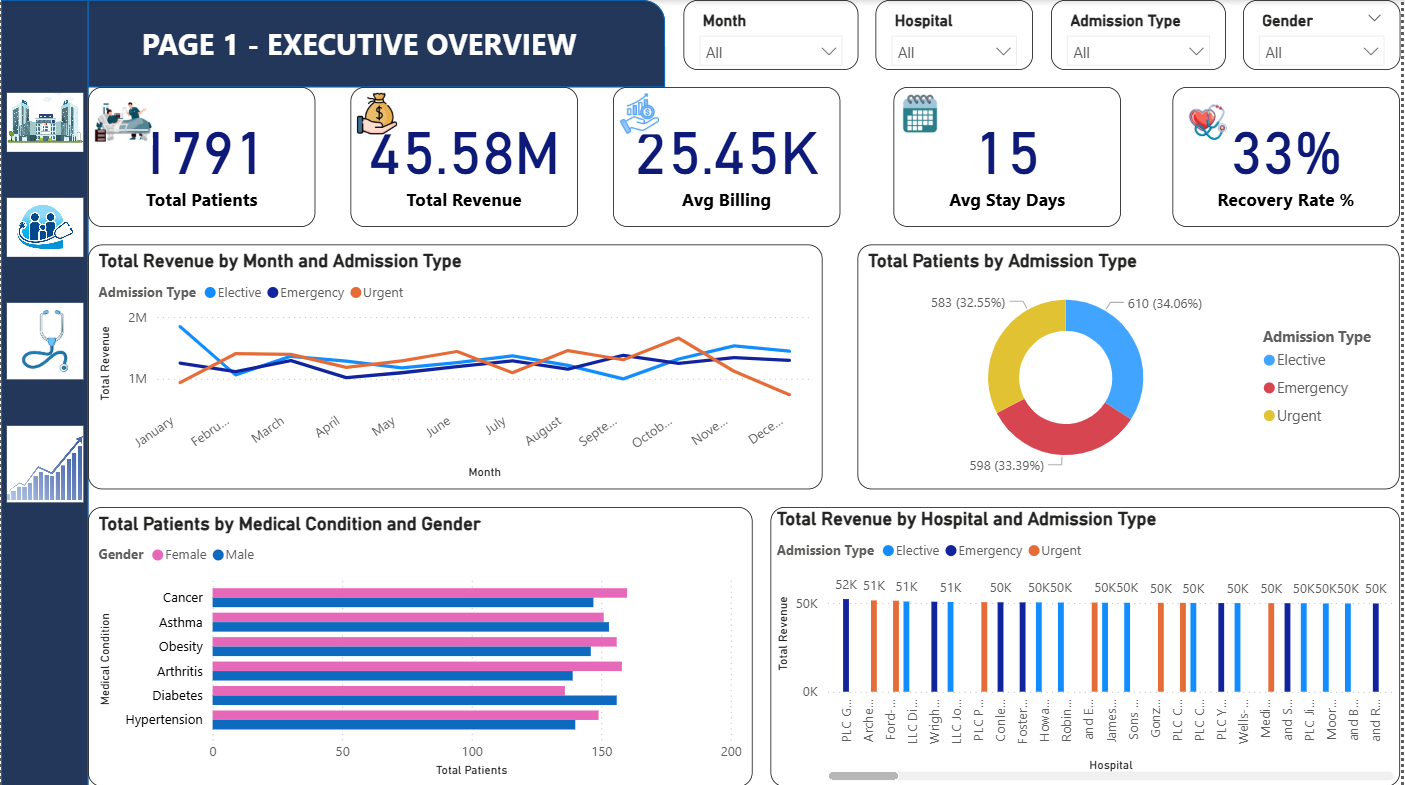

Layout of this report page (visuals, bound fields, positions):
{"tool":"powerbi","page":{"name":"Page 1","canvas":[1280,720],"ordinal":0},"visuals":[{"type":"shape","box":[80,0,528,80],"z":0},{"type":"textbox","box":[80,16,512,48],"z":1000},{"type":"shape","box":[0,0,80,720],"z":2000},{"type":"card","fields":{"Values":["healthcare_dataset.Total Patients"]},"box":[80,80,208,128],"z":3000},{"type":"card","fields":{"Values":["healthcare_dataset.Total Revenue"]},"box":[320,80,208,128],"z":4000},{"type":"card","fields":{"Values":["healthcare_dataset.Avg Billing"]},"box":[560,80,208,128],"z":5000},{"type":"card","fields":{"Values":["healthcare_dataset.Avg Stay Days"]},"box":[816,80,208,128],"z":6000},{"type":"card","fields":{"Values":["healthcare_dataset.Recovery Rate %"]},"box":[1072,80,208,128],"z":7000},{"type":"lineChart","fields":{"Category":["healthcare_dataset.Month"],"Y":["healthcare_dataset.Total Revenue"],"Series":["healthcare_dataset.Admission Type"]},"box":[80,224,672,224],"z":8000},{"type":"clusteredBarChart","fields":{"Category":["healthcare_dataset.Medical Condition"],"Y":["healthcare_dataset.Total Patients"],"Series":["healthcare_dataset.Gender"]},"box":[80,464,608,256],"z":9000},{"type":"donutChart","fields":{"Category":["healthcare_dataset.Admission Type"],"Y":["healthcare_dataset.Total Patients"]},"box":[784,224,496,224],"z":10000},{"type":"clusteredColumnChart","fields":{"Category":["healthcare_dataset.Hospital"],"Y":["healthcare_dataset.Total Revenue"],"Series":["healthcare_dataset.Admission Type"]},"box":[704,464,576,256],"z":11000},{"type":"slicer","fields":{"Values":["healthcare_dataset.Month"]},"box":[624,0,160,64],"z":12000},{"type":"slicer","fields":{"Values":["healthcare_dataset.Hospital"]},"box":[800,0,144,64],"z":13000},{"type":"slicer","fields":{"Values":["healthcare_dataset.Admission Type"]},"box":[960,0,160,64],"z":14000},{"type":"slicer","fields":{"Values":["healthcare_dataset.Gender"]},"box":[1136,0,144,64],"z":15000},{"type":"image","box":[0,176,80,64],"z":15001},{"type":"image","box":[0,80,80,64],"z":15002},{"type":"image","box":[816,80,48,48],"z":15003},{"type":"image","box":[80,80,64,64],"z":15004},{"type":"image","box":[0,272,80,80],"z":15007},{"type":"image","box":[1072,80,64,64],"z":15008},{"type":"image","box":[320,80,48,48],"z":15010},{"type":"image","box":[0,384,80,80],"z":15011},{"type":"image","box":[560,80,48,48],"z":15012}]}

Visuals, with their boxes in screenshot pixels (x1, y1, x2, y2), scaled from the page's 1280x720 canvas onto the 1405x785 screenshot:
shape: 88:0:667:87
textbox: 88:17:650:70
shape: 0:0:88:784
card - healthcare_dataset.Total Patients: 88:87:316:227
card - healthcare_dataset.Total Revenue: 351:87:580:227
card - healthcare_dataset.Avg Billing: 615:87:843:227
card - healthcare_dataset.Avg Stay Days: 896:87:1124:227
card - healthcare_dataset.Recovery Rate %: 1177:87:1404:227
lineChart - healthcare_dataset.Month x healthcare_dataset.Total Revenue: 88:244:825:488
clusteredBarChart - healthcare_dataset.Medical Condition x healthcare_dataset.Total Patients: 88:506:755:784
donutChart - healthcare_dataset.Admission Type x healthcare_dataset.Total Patients: 861:244:1404:488
clusteredColumnChart - healthcare_dataset.Hospital x healthcare_dataset.Total Revenue: 773:506:1404:784
slicer - healthcare_dataset.Month: 685:0:861:70
slicer - healthcare_dataset.Hospital: 878:0:1036:70
slicer - healthcare_dataset.Admission Type: 1054:0:1229:70
slicer - healthcare_dataset.Gender: 1247:0:1404:70
image: 0:192:88:262
image: 0:87:88:157
image: 896:87:948:140
image: 88:87:158:157
image: 0:297:88:384
image: 1177:87:1247:157
image: 351:87:404:140
image: 0:419:88:506
image: 615:87:667:140
